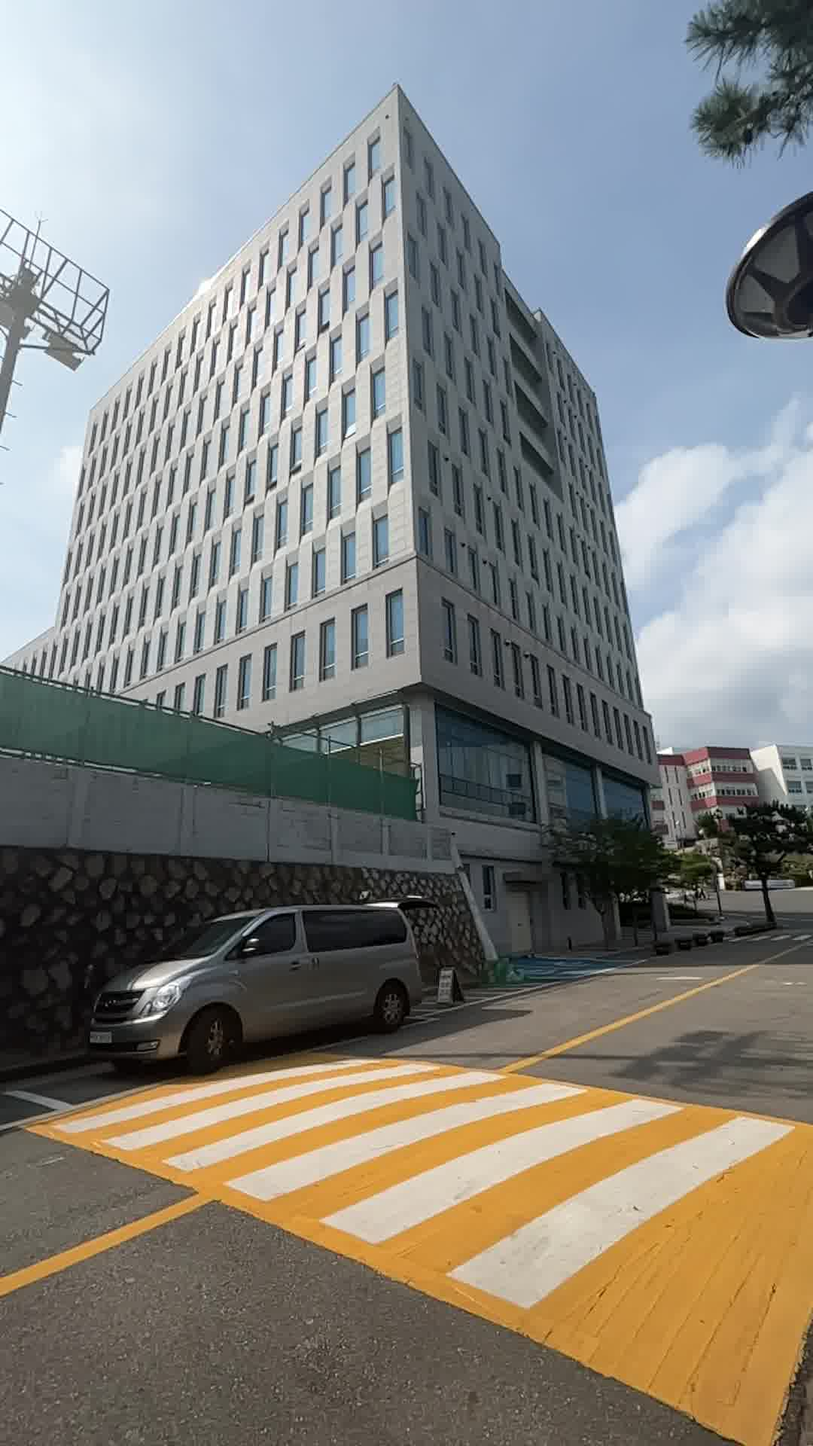low: (30, 77, 647, 732)
